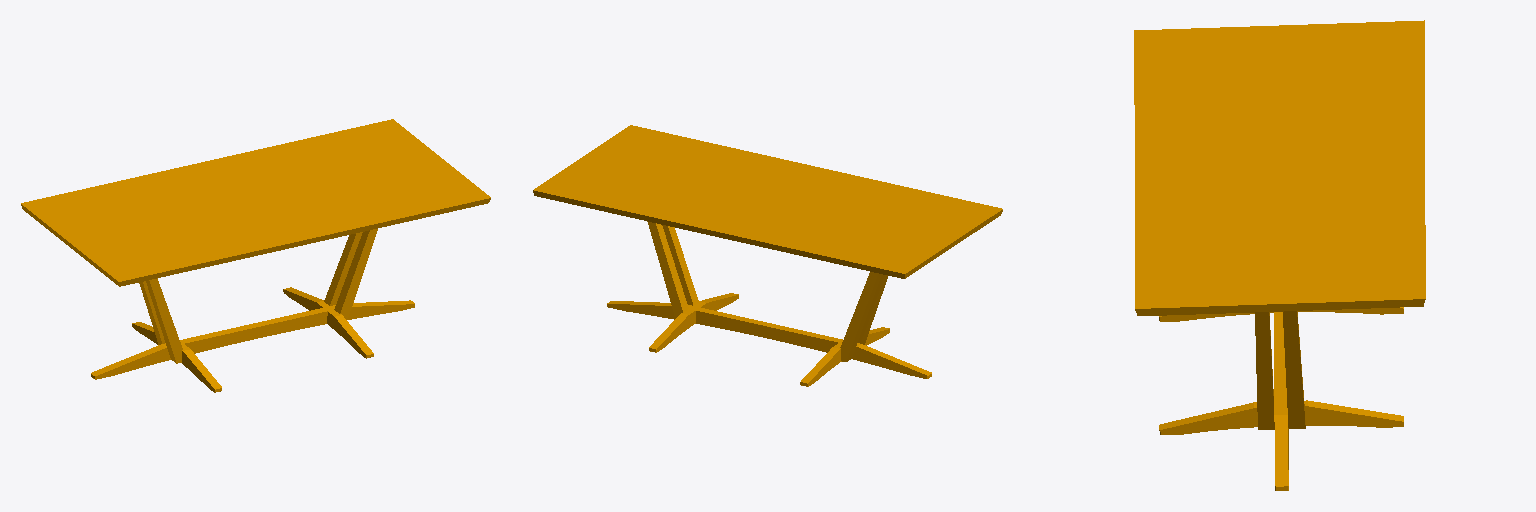
The robot description file, URDF, robot "dining_table_03":
<?xml version="1.0" ?>
<robot name="dining_table_03">
  <link name="baseLink">
    <contact>
      <lateral_friction value="1.0"/>
      <inertia_scaling value="3.0"/>
    </contact>
    <inertial>
      <origin rpy="0 0 0" xyz="0.002 -0.008 -0.192"/>
       <mass value=".1"/>
       <inertia ixx="1" ixy="0.0" ixz="0.0" iyy="1" iyz="0.0" izz="1"/>
    </inertial>
    <visual>
      <origin rpy="0 0 0" xyz="0 0 0"/>
      <geometry>
        <mesh filename="visual.obj" scale="1.000 1.000 1.000"/>
      </geometry>
      <material name="texture_material">
            <texture filename="texture.png"/>
      </material>
    </visual>
    <collision>
      <origin rpy="0 0 0" xyz="0 0 0"/>
      <geometry>
        <mesh filename="visual.obj" scale="1.000 1.000 1.000"/>
      </geometry>
    </collision>
  </link>
</robot>
        

--- What the picture shows (computed from the rendered views, not written in the file) ---
The picture shows the robot from 3 angles, left to right: view 1: azimuth 30°, elevation 25°; view 2: azimuth 150°, elevation 25°; view 3: azimuth 270°, elevation 25°; orthographic projection.
Model dining_table_03 with 1 links and 0 joints (none), rooted at baseLink, posed every joint at zero.
Links seen in each view (by area): view 1: baseLink; view 2: baseLink; view 3: baseLink.
Boxes of the visible links, bbox=[...] form: baseLink: bbox=[21, 119, 490, 392]; baseLink: bbox=[533, 125, 1002, 386]; baseLink: bbox=[1134, 20, 1425, 490].
Bounding box of the posed robot: 1 × 0.4584 × 0.3906 m (x, y, z).
Meshes: 1 distinct files referenced, 1 mesh visuals loaded (1 OBJ).
